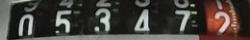digits: (54, 0, 75, 40), (92, 0, 113, 40), (210, 0, 230, 38), (16, 0, 33, 40), (173, 6, 191, 38), (134, 8, 149, 31)
